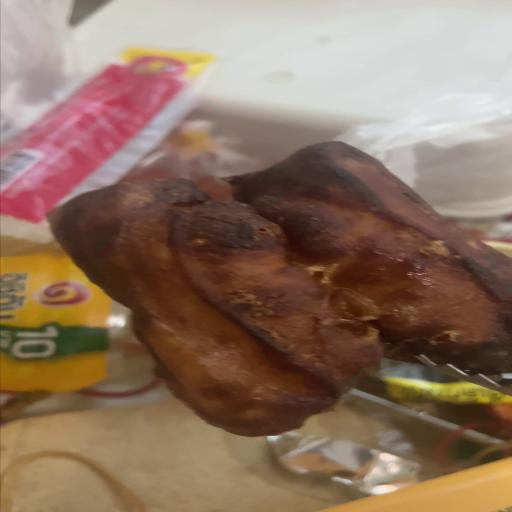street_burnt_defect: (50, 142, 512, 436)
